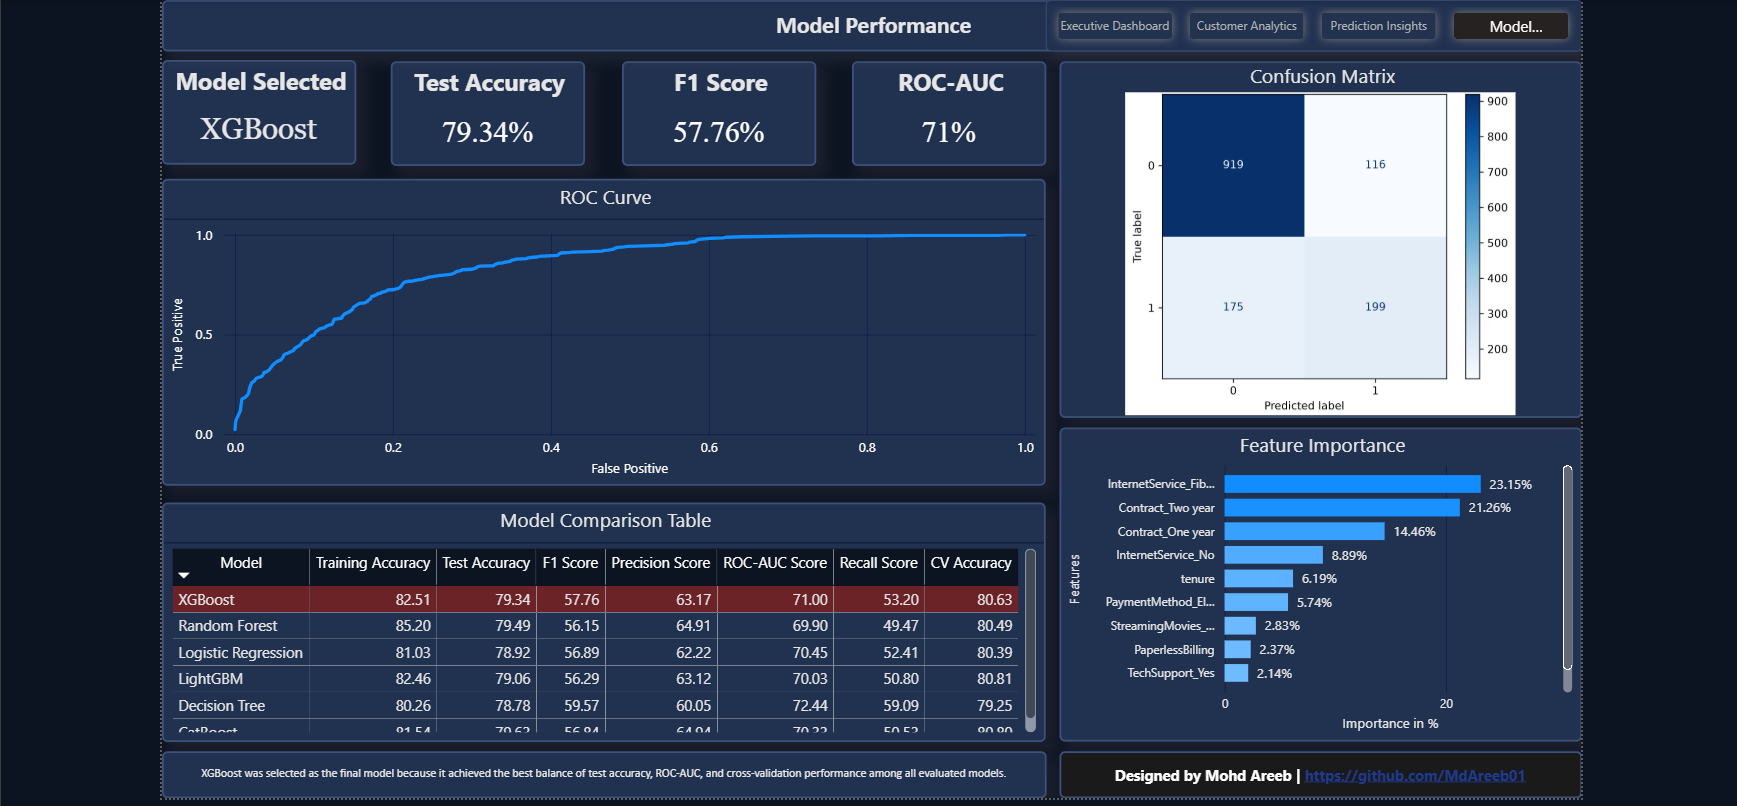

The page's visual inventory and layout, read from the dashboard file:
{"tool":"powerbi","page":{"name":"Model Performance","canvas":[1280,720],"ordinal":3},"visuals":[{"type":"cardVisual","title":"Model Selected","fields":{"Data":["Max(model_comparison.Model)"]},"box":[0,54,175,94],"z":0},{"type":"textbox","title":"Test Accuracy","box":[206.2,55,175,94],"z":1000},{"type":"textbox","title":"F1 Score","box":[415,55,175,94],"z":2000},{"type":"textbox","title":"ROC-AUC","box":[622.5,55,175,94],"z":3000},{"type":"tableEx","title":"Model Comparison Table","fields":{"Values":["model_comparison.Model","model_comparison.Training_Accuracy","model_comparison.Test_Accuracy","model_comparison.F1","model_comparison.Precision","model_comparison.ROC_AUC","model_comparison.Recall","model_comparison.CV_Accuracy"]},"box":[0,453,797,216],"z":4000},{"type":"clusteredBarChart","title":"Feature Importance","fields":{"Category":["feature_importance.Feature"],"Y":["Sum(feature_importance.Importance)"]},"box":[809,386,471.4,282.9],"z":5000},{"type":"textbox","title":"Model Performance","box":[0,0,1280.2,46],"z":6000},{"type":"image","title":"Confusion Matrix","box":[808.8,55,471.2,321.2],"z":8000},{"type":"textbox","title":"F1 Score","box":[0,677.5,797.5,42.5],"z":9000},{"type":"pageNavigator","box":[796.5,0,483.7,46.5],"z":9002},{"type":"textbox","title":"Executive Dashboard","box":[809,677.5,471.2,42.5],"z":9003},{"type":"lineChart","title":"ROC Curve","fields":{"Category":["fpr_tpr.False Positive Rate"],"Y":["Avg(fpr_tpr.True Positive Rate)"]},"box":[0,161.4,797.1,277.1],"z":9004}]}

Visuals, with their boxes on the page's 1280x720 design canvas (x1, y1, x2, y2). These are canvas units, not pixel positions in the 1737x806 screenshot, which may show the page scaled, cropped or inside an application window:
"Model Selected" cardVisual: bbox=(0, 54, 175, 148)
"Test Accuracy" textbox: bbox=(206, 55, 381, 149)
"F1 Score" textbox: bbox=(415, 55, 590, 149)
"ROC-AUC" textbox: bbox=(622, 55, 798, 149)
"Model Comparison Table" tableEx: bbox=(0, 453, 797, 669)
"Feature Importance" clusteredBarChart: bbox=(809, 386, 1280, 669)
"Model Performance" textbox: bbox=(0, 0, 1280, 46)
"Confusion Matrix" image: bbox=(809, 55, 1280, 376)
"F1 Score" textbox: bbox=(0, 678, 798, 720)
pageNavigator: bbox=(796, 0, 1280, 46)
"Executive Dashboard" textbox: bbox=(809, 678, 1280, 720)
"ROC Curve" lineChart: bbox=(0, 161, 797, 438)
